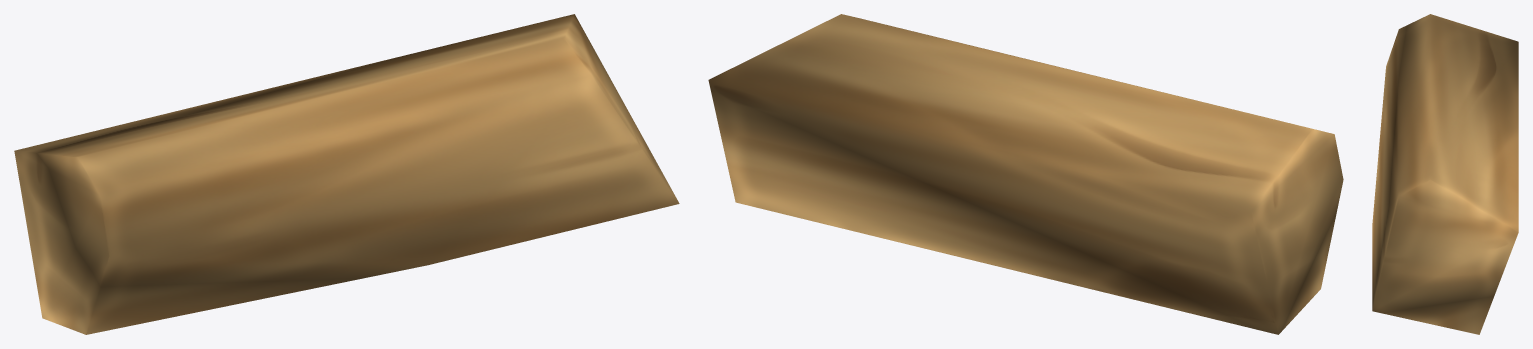
Rendered from Firewood_E.fbx.
3 renders of one model, left to right at view 1: azimuth 30°, elevation 25°; view 2: azimuth 150°, elevation 25°; view 3: azimuth 270°, elevation 25°, orthographic. The views are drawn at different scales.
Parts seen in each view (by area): view 1: U_Firewood_E; view 2: U_Firewood_E; view 3: U_Firewood_E.
Part boxes in pixels (<box>): U_Firewood_E: <box>14,14,679,334</box>; U_Firewood_E: <box>708,14,1343,334</box>; U_Firewood_E: <box>1372,14,1518,334</box>.
Size of the model in its own units: 120 by 38.31 by 39.03.
1 material, 1 textured.
